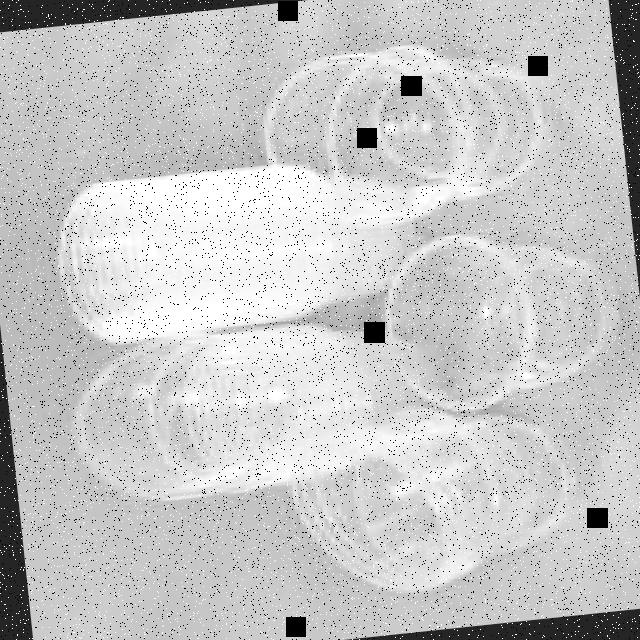plastic_cup_lid: (50, 123, 588, 618), (254, 26, 550, 228), (373, 219, 620, 414)
